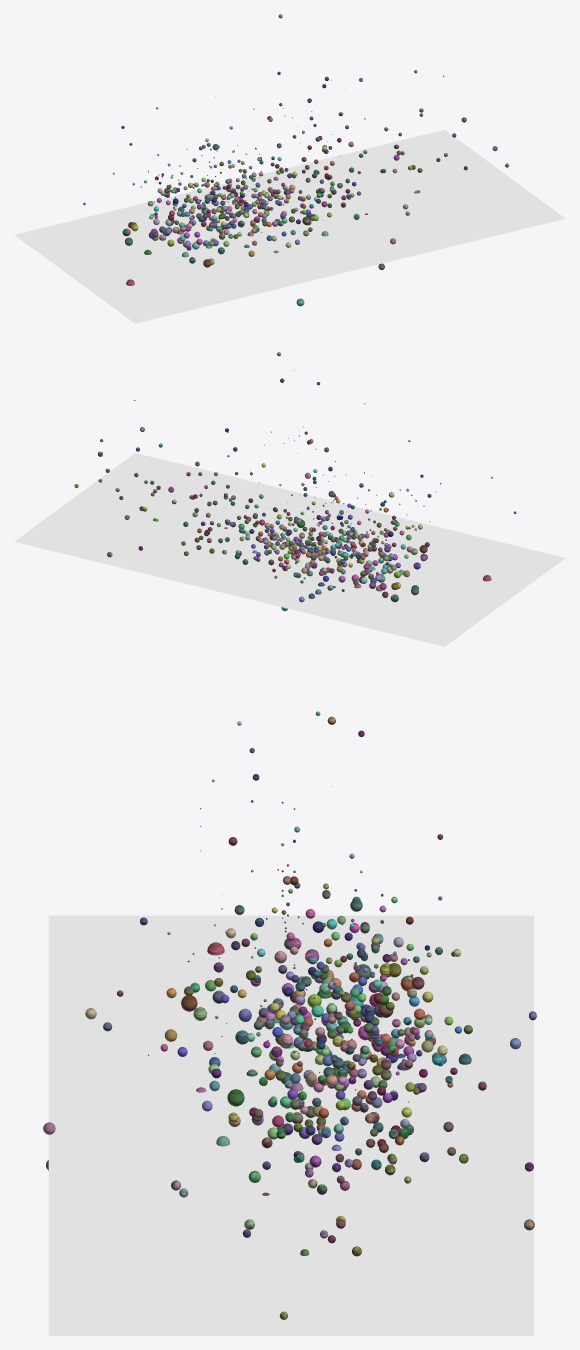
Rendered from exoplanets.glb.
3 renders of one model, top to bottom at view 1: azimuth 30°, elevation 25°; view 2: azimuth 150°, elevation 25°; view 3: azimuth 270°, elevation 25°, orthographic. The views are drawn at different scales.
Parts seen in each view (by area): view 1: Plane_4, Exoplanets_3; view 2: Plane_4, Exoplanets_3; view 3: Plane_4, Exoplanets_3.
Boxes of the visible parts, x1,y1,x2,y2 form: Plane_4: [14, 130, 565, 323]; Exoplanets_3: [83, 70, 509, 306]; Plane_4: [14, 453, 565, 646]; Exoplanets_3: [74, 378, 516, 611]; Plane_4: [48, 915, 533, 1335]; Exoplanets_3: [43, 711, 536, 1319].
Size of the model in its own units: 2.68 by 1.55 by 1.32.
Materials: 5 (5 with a texture image).
